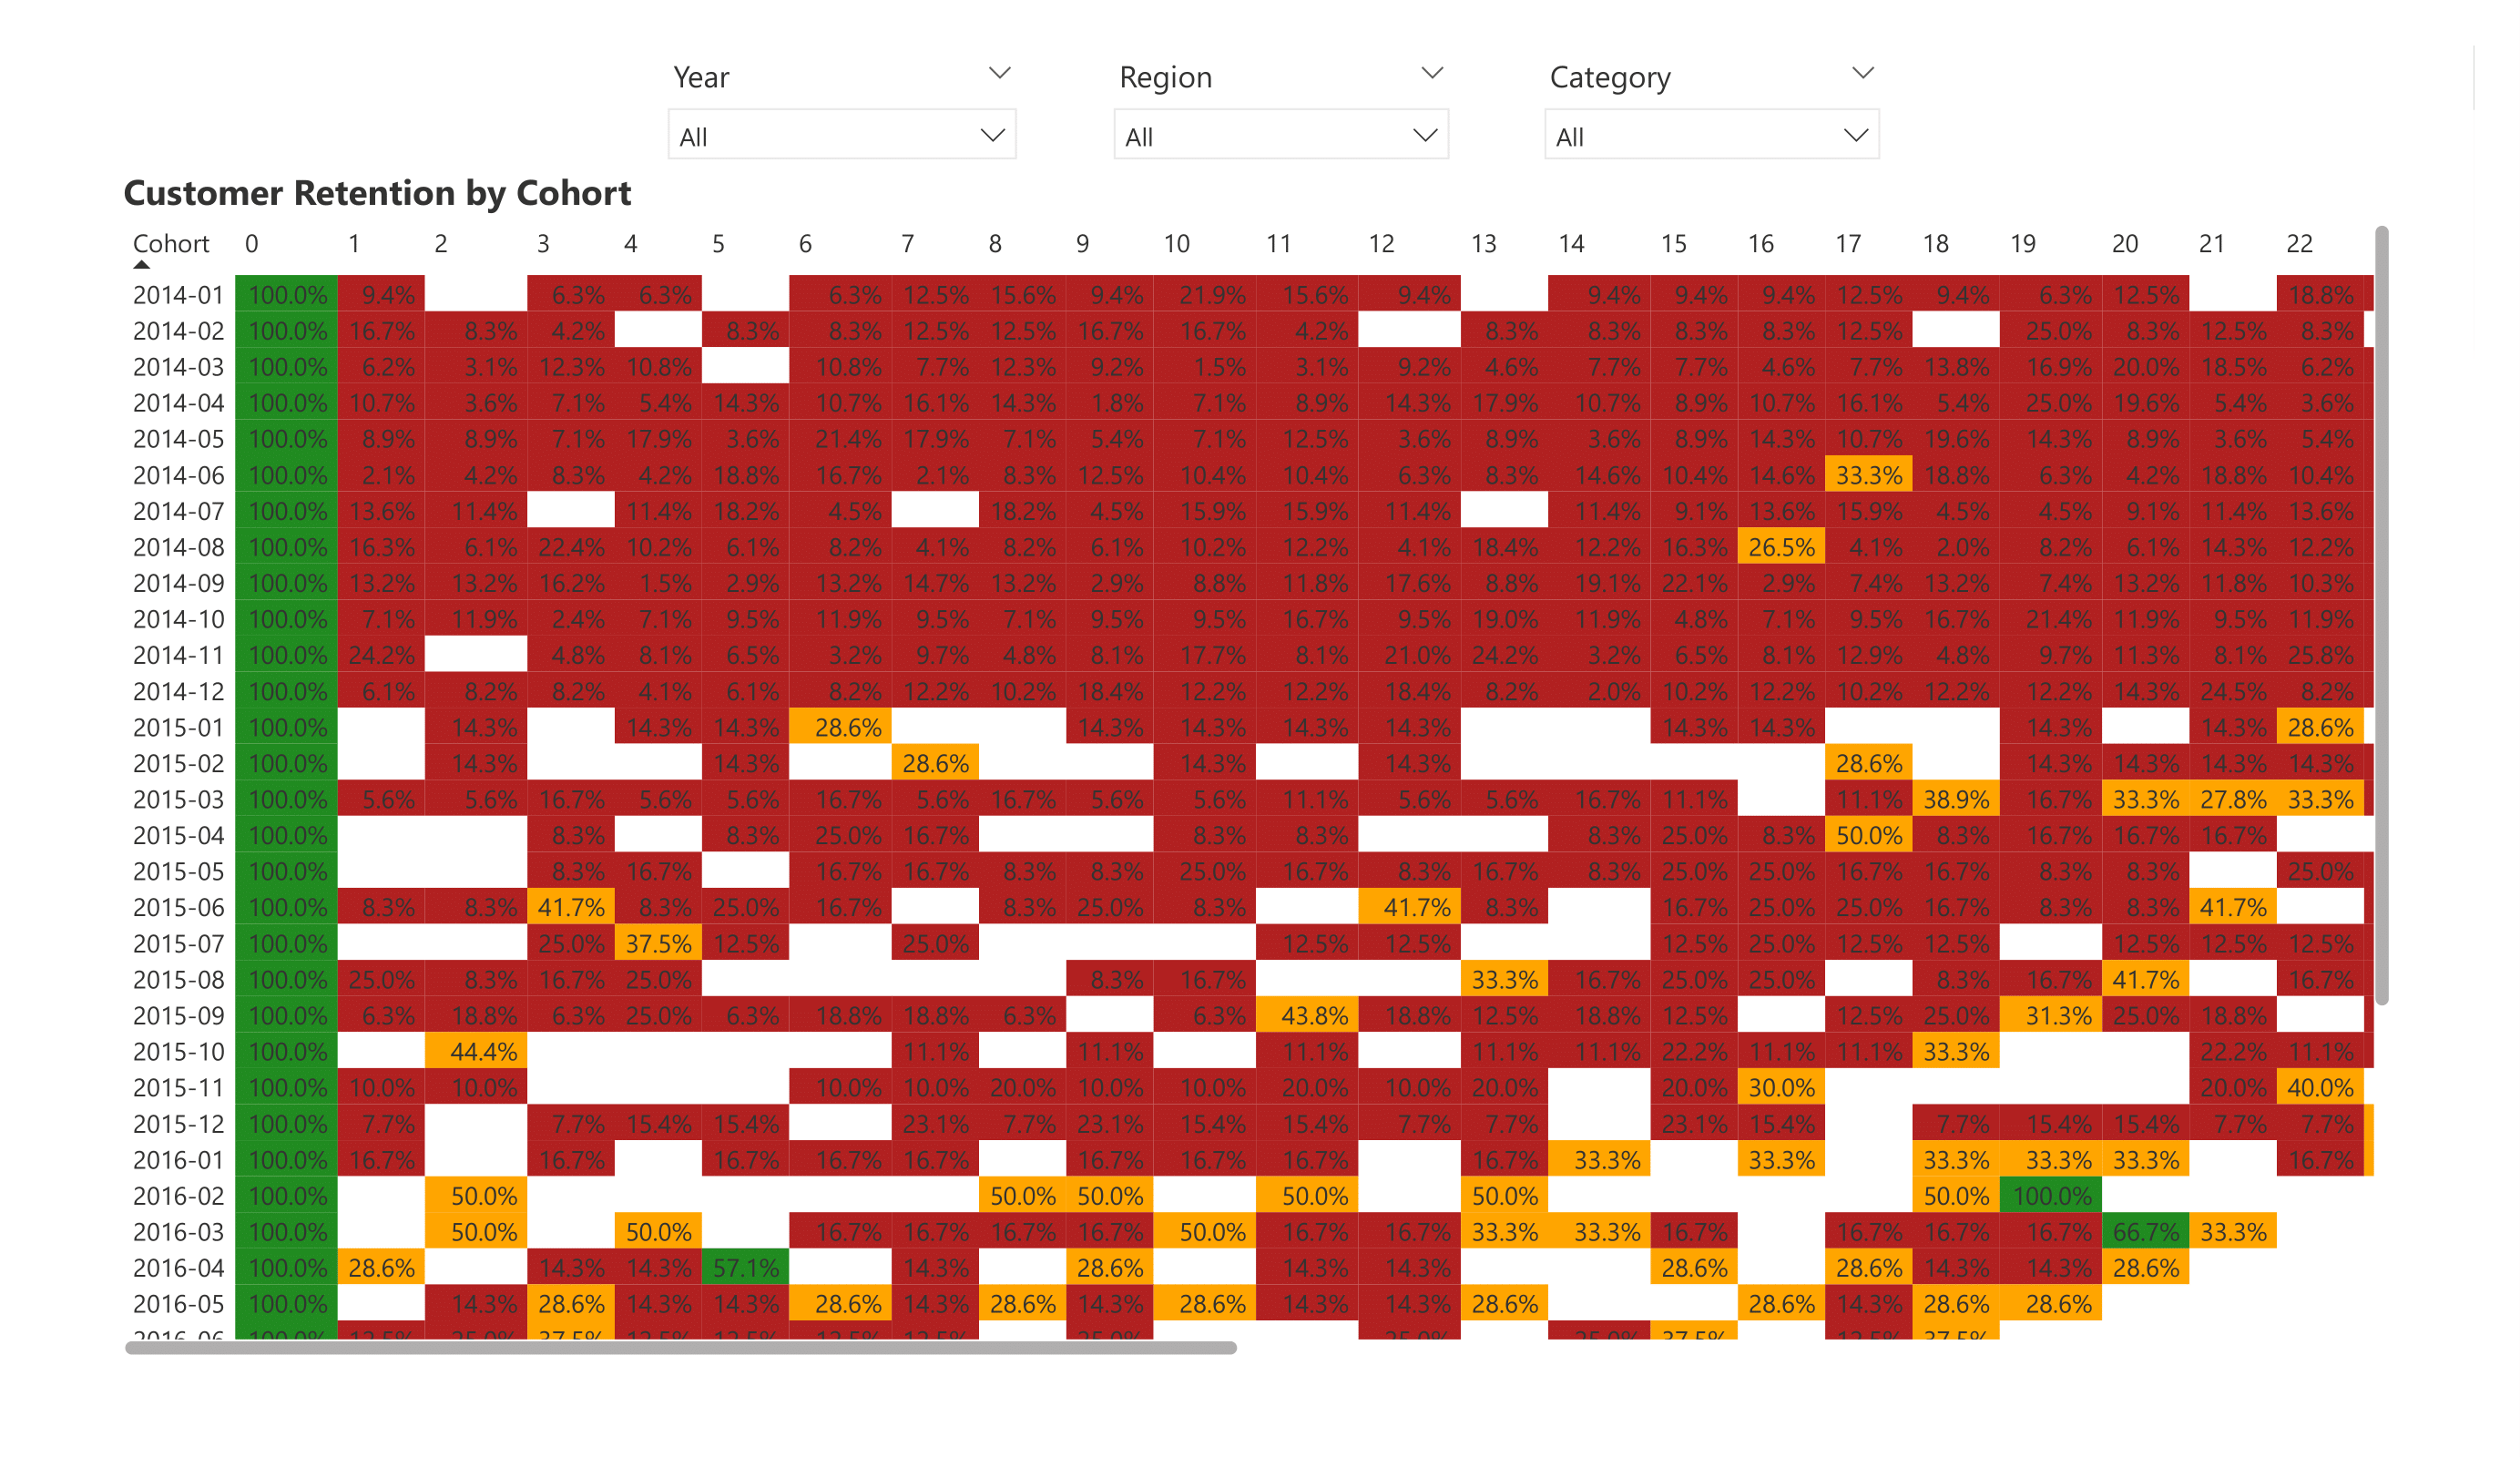

The page's visual inventory and layout, read from the dashboard file:
{"tool":"powerbi","page":{"name":"Page 3","canvas":[1280,720],"ordinal":2},"visuals":[{"type":"pivotTable","title":"Customer Retention by Cohort","fields":{"Columns":["superstoresales_clean.MonthNumber"],"Rows":["superstoresales_clean.Cohort.Variation.Date Hierarchy.Year"],"Values":["superstoresales_clean.Retention %"]},"box":[35.7,64.3,1205.4,632.1],"z":0},{"type":"slicer","fields":{"Values":["superstoresales_clean.Region"]},"box":[552.5,0,197.3,64.8],"z":1000},{"type":"slicer","fields":{"Values":["superstoresales_clean.Category"]},"box":[780,0,197.3,64.8],"z":2000},{"type":"slicer","fields":{"Values":["DateTable.Year"]},"box":[317.8,0,204.5,64.8],"z":3000}]}

Visuals, with their boxes on the page's 1280x720 design canvas (x1, y1, x2, y2). These are canvas units, not pixel positions in the 2520x1457 screenshot, which may show the page scaled, cropped or inside an application window:
"Customer Retention by Cohort" pivotTable: 36:64:1241:696
slicer - superstoresales_clean.Region: 552:0:750:65
slicer - superstoresales_clean.Category: 780:0:977:65
slicer - DateTable.Year: 318:0:522:65
